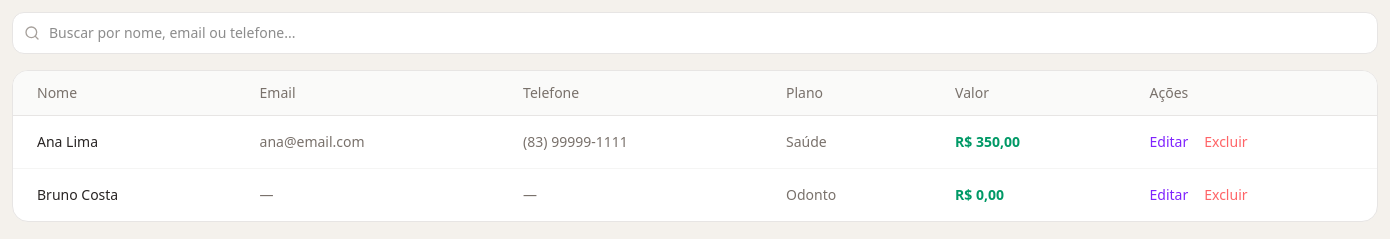
Test: ClienteTablePosVenda › shows empty message when no match
Type "XXXXXXXXXXX" into the field with placeholder "Buscar por nome, email ou telefone...".
click(695, 33); type("XXXXXXXXXXX")  # box [12,12,1378,54]
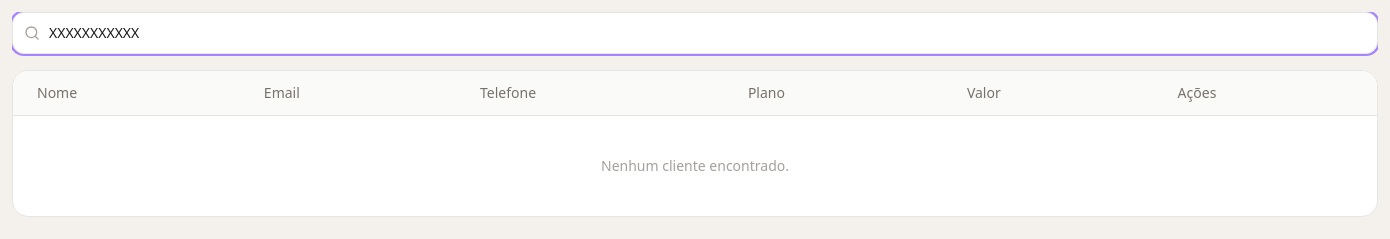
Now the text "Nenhum cliente encontrado." is shown, box [13,116,1377,216]
